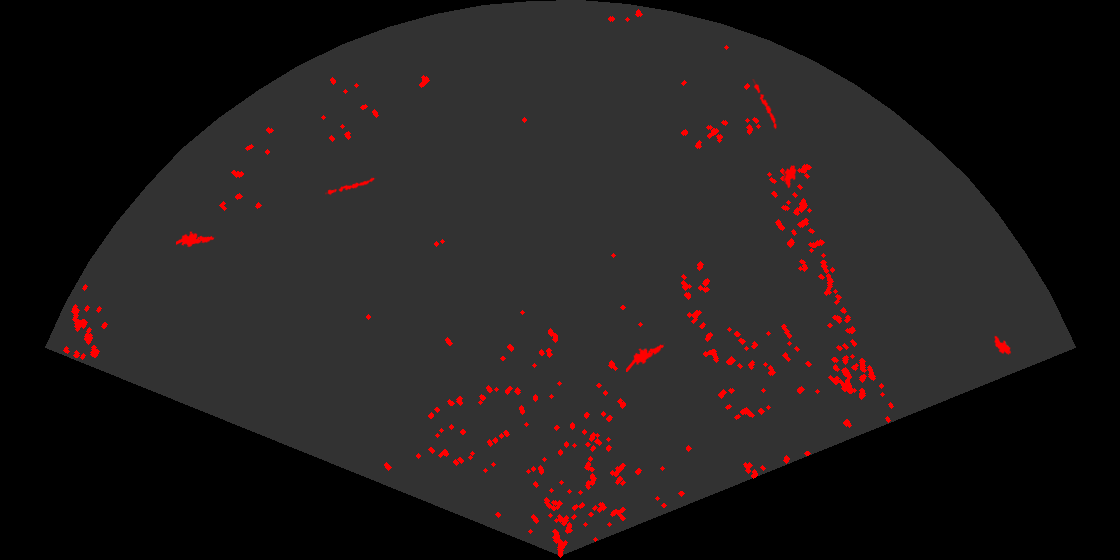AUV: (992, 334, 1013, 356), (783, 164, 798, 190)
chain: (751, 79, 779, 131), (325, 176, 377, 197)
frogman: (626, 341, 665, 372), (176, 230, 216, 249)
